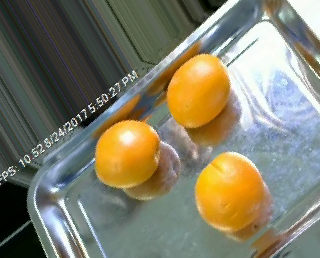Orange: (194, 151, 264, 231), (167, 53, 231, 127), (94, 119, 160, 187)
